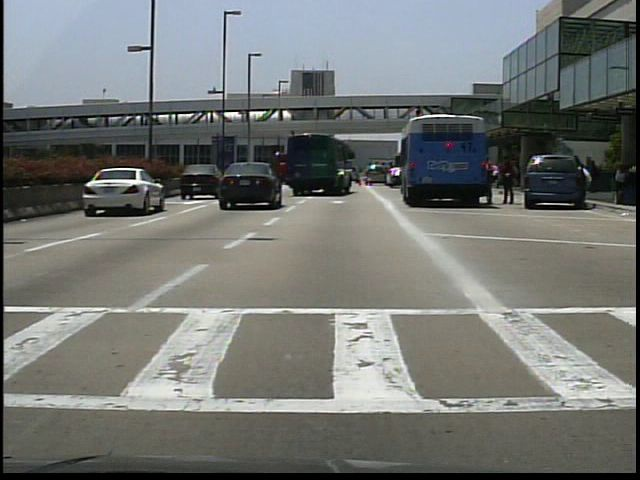person: (499, 157, 516, 204), (576, 162, 594, 202), (486, 154, 500, 204)
